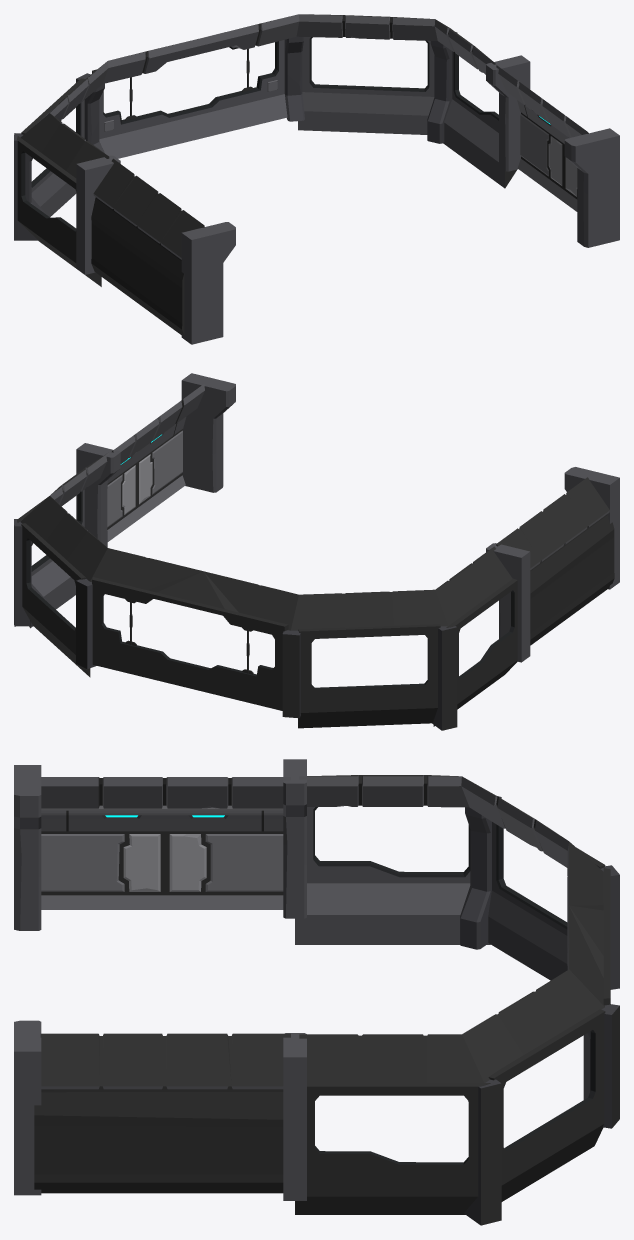
File: SM_Bld_Bridge_Walls_01.fbx
3 views of the same model, one above another, from view 1: azimuth 30°, elevation 25°; view 2: azimuth 150°, elevation 25°; view 3: azimuth 270°, elevation 25° (orthographic). The views are drawn at different scales.
Parts seen in each view (by area): view 1: SM_Bld_Bridge_Walls_01_LOD0; view 2: SM_Bld_Bridge_Walls_01_LOD0; view 3: SM_Bld_Bridge_Walls_01_LOD0.
Boxes of the visible parts, x1=… form: SM_Bld_Bridge_Walls_01_LOD0: x1=14, y1=14, x2=619, y2=344; SM_Bld_Bridge_Walls_01_LOD0: x1=14, y1=373, x2=619, y2=730; SM_Bld_Bridge_Walls_01_LOD0: x1=14, y1=759, x2=619, y2=1225.
Size of the model in its own units: 1550 by 1803 by 493.
1 material, 1 textured.
